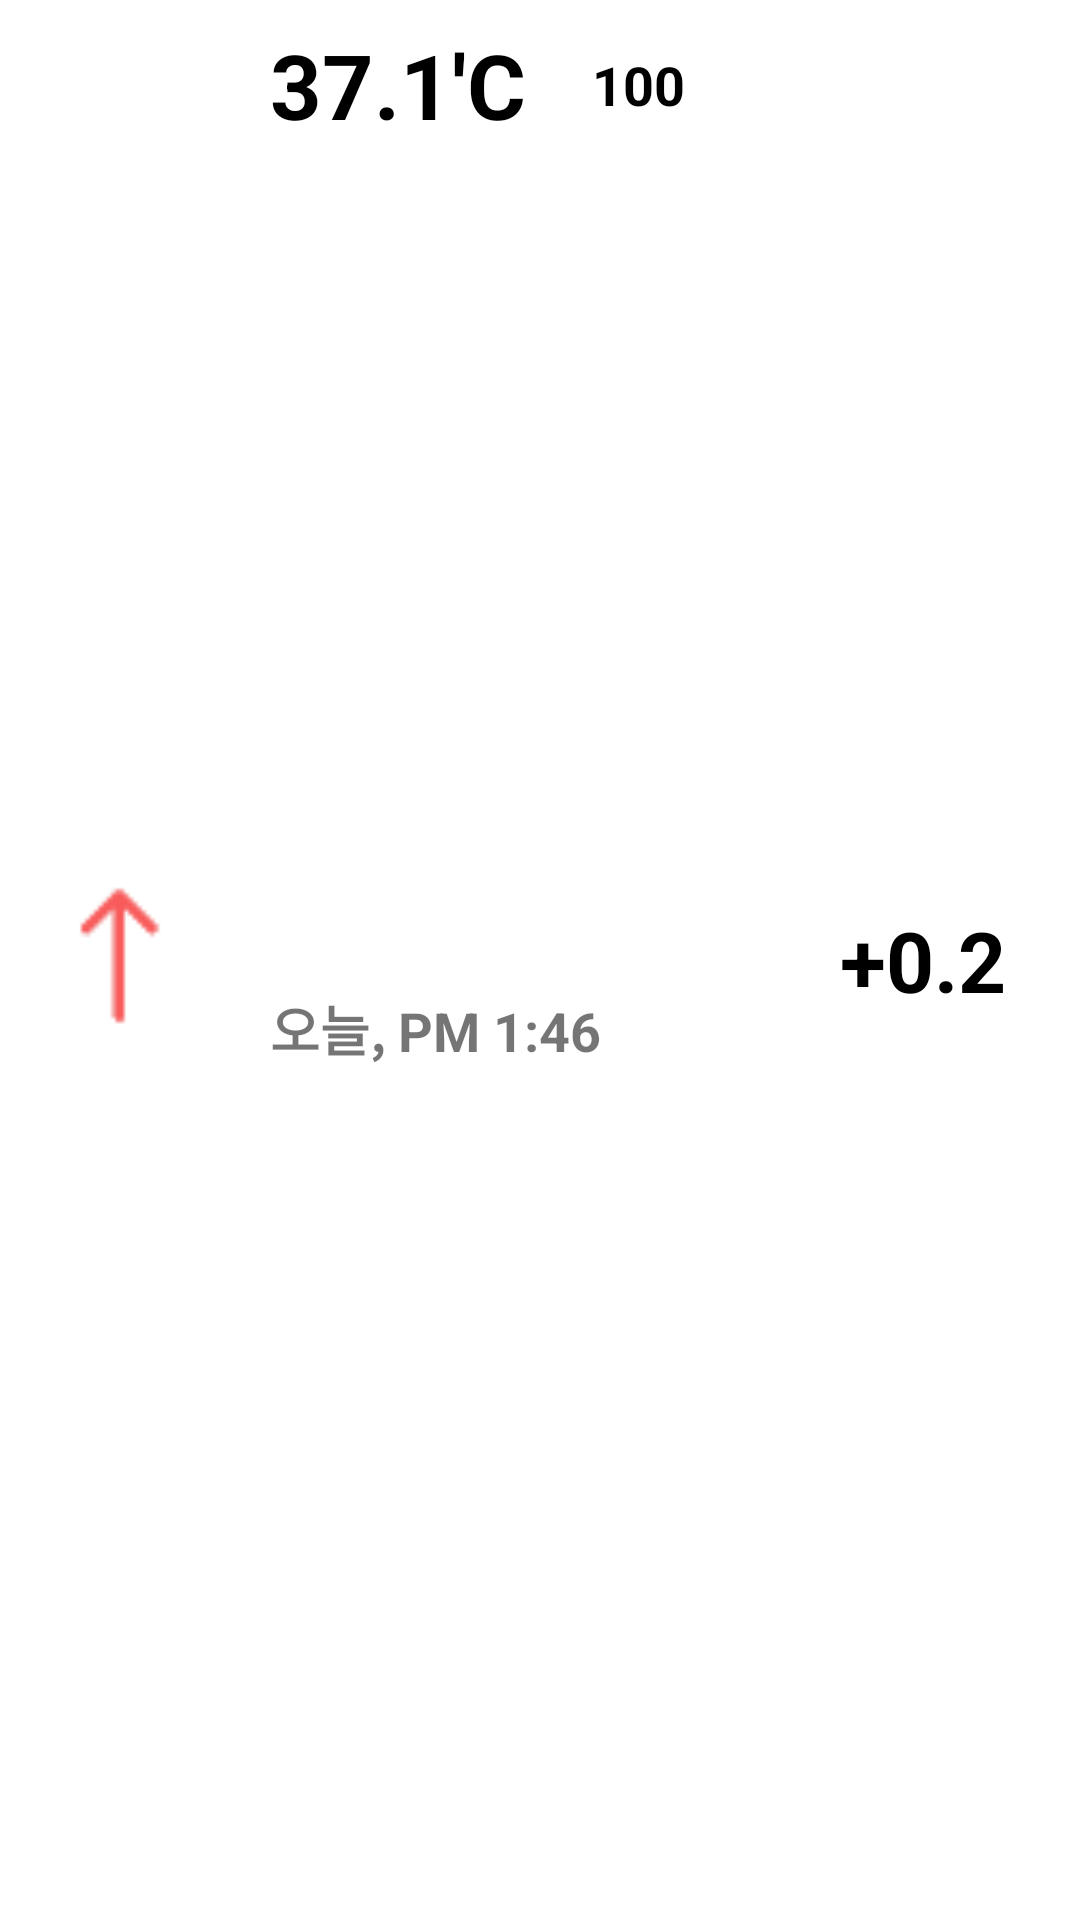

Icons on this 1080 × 1920 Android screen, each with its box as (x1, y1, x2, y2):
redarrow: (80, 888, 160, 1024)
